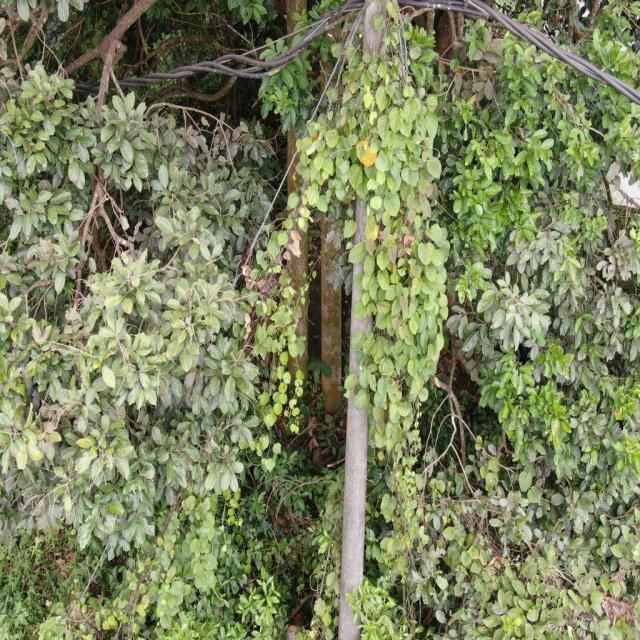critical vegetation: (310, 21, 439, 455)
